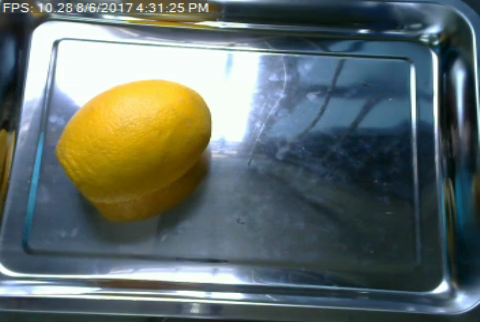Orange: (55, 78, 211, 202)
